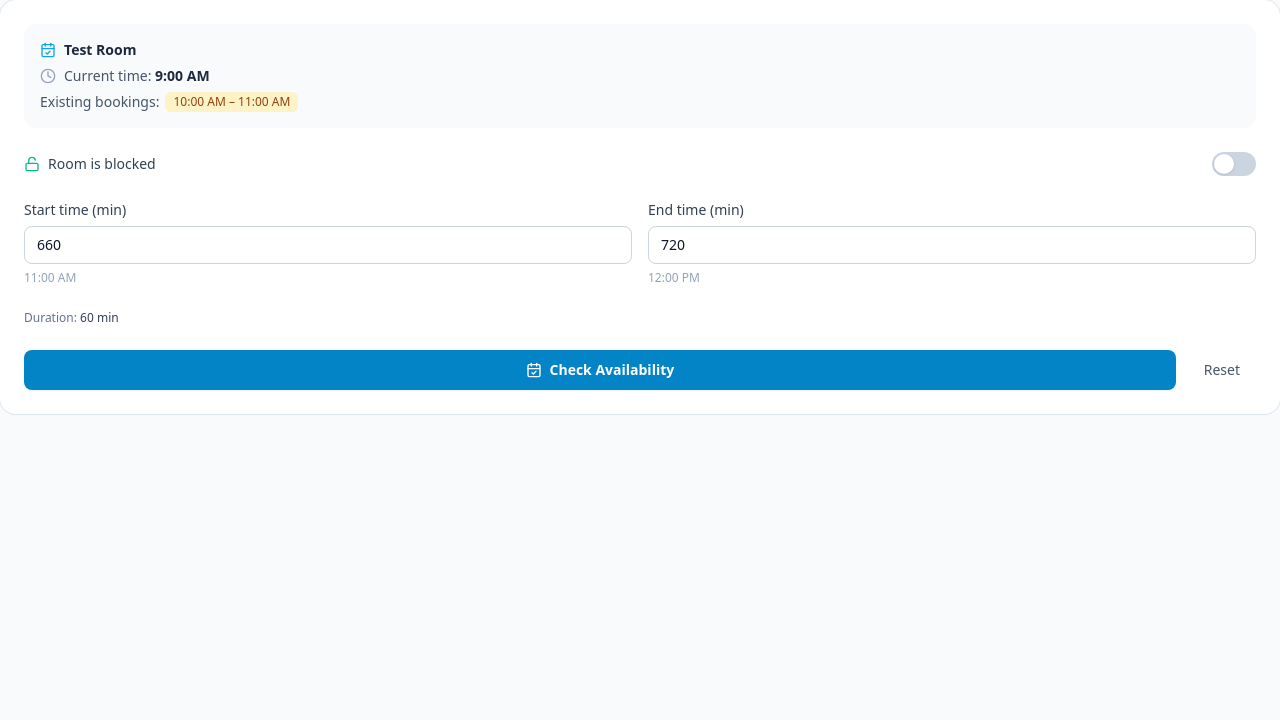
Test: AvailabilityPanel › reports unavailable for a window overlapping the room's own booking
The image size is (1280, 720).
set start 610, end 650 → inside existing 600-660
Replace the text in the number field labelled "Start time (min)" with "610" at (328, 245), box [24,226,632,264]
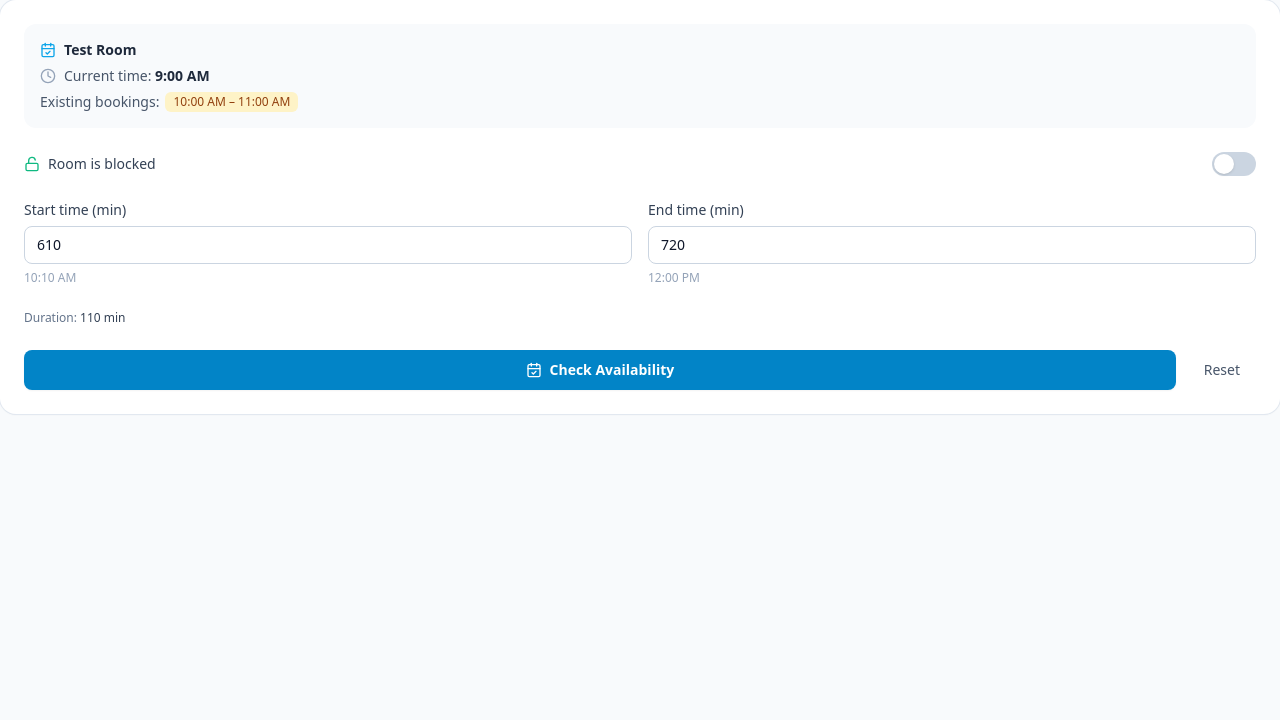
Replace the text in the number field labelled "End time (min)" with "650" at (952, 245), box [648,226,1256,264]
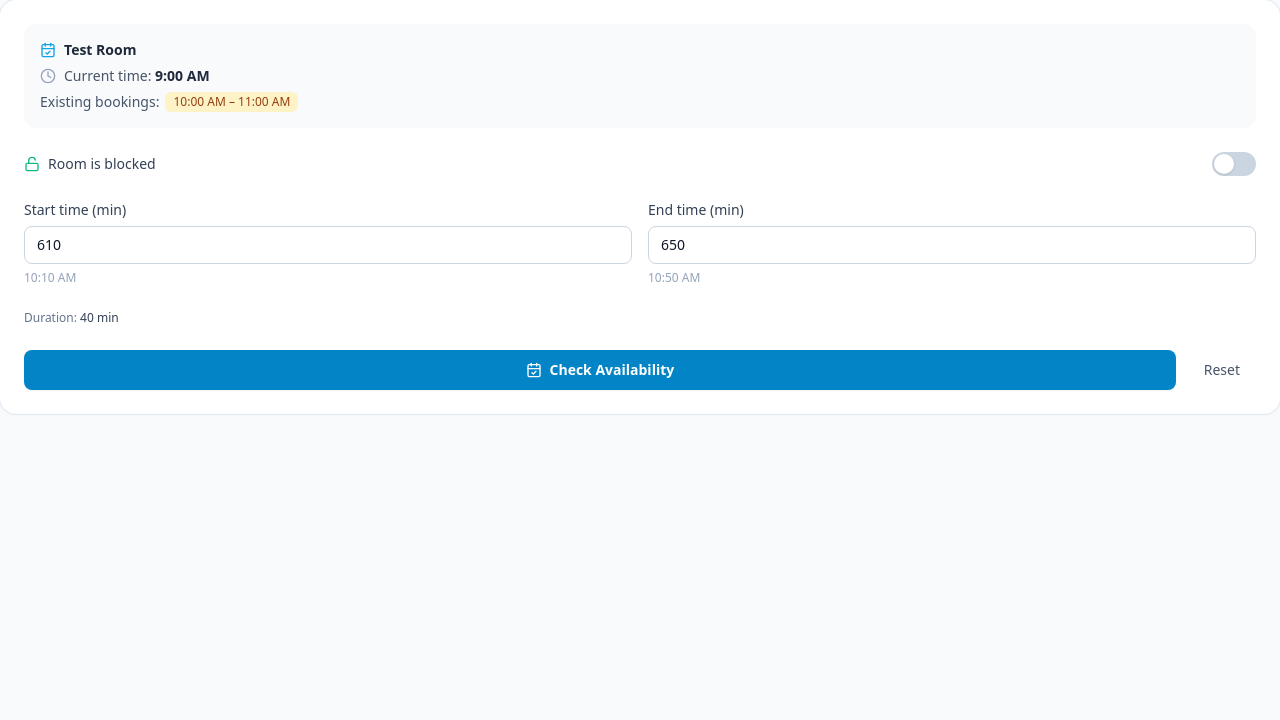
Click the button "Check Availability" at (600, 370), box [24,350,1176,390]
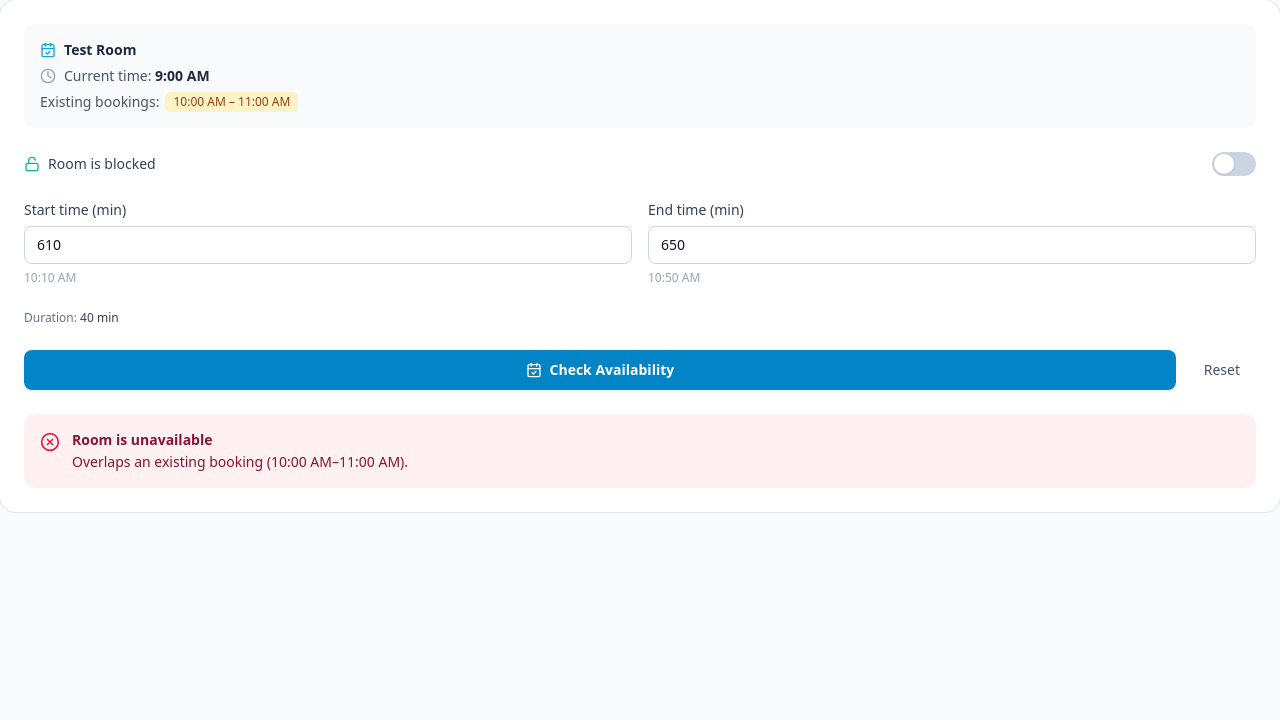
Expected: the text "Room is unavailable" is shown, [72,430,212,449]
Expected: the text "Overlaps an existing booking (10:00 AM–11:00 AM)." is shown, [72,452,408,472]
